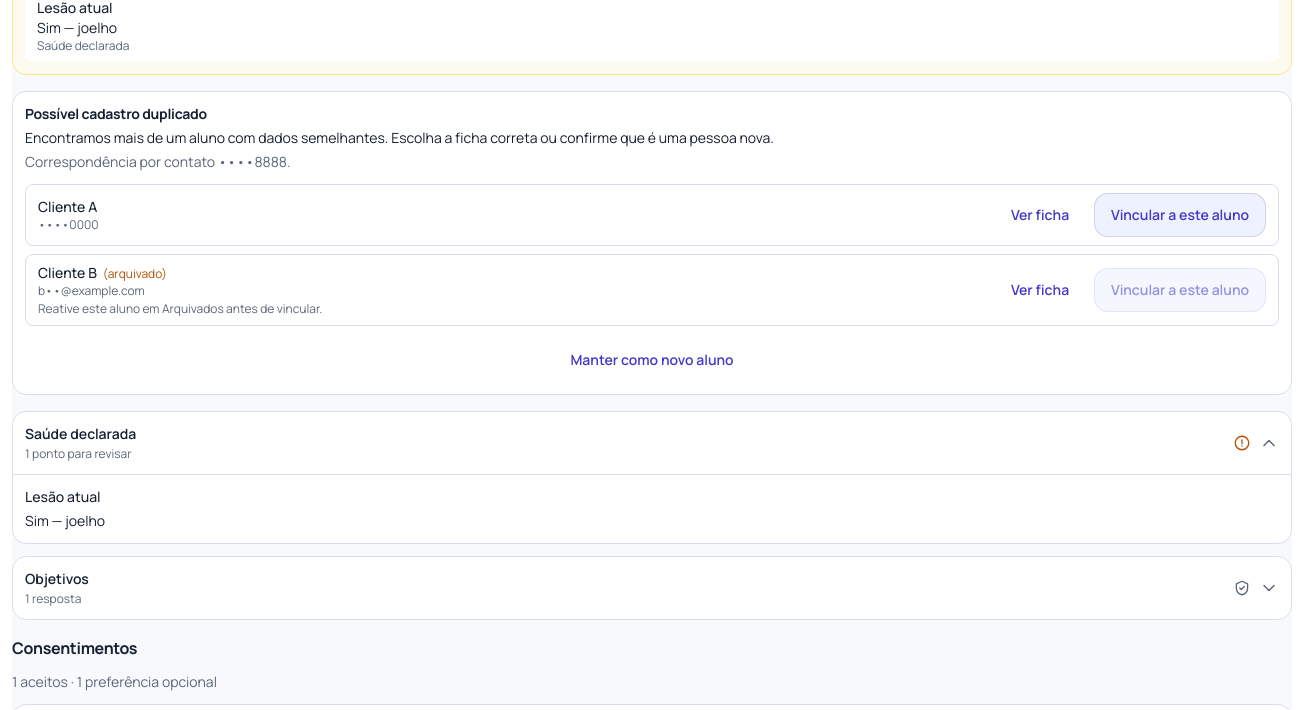
Test case: ambiguous duplicate resolution › keeps the submission as a new client via an explicit, separate action
(page scrolled)
Click the button "Manter como novo aluno" at point(652, 360), box [25, 338, 1279, 382]
(page scrolled)
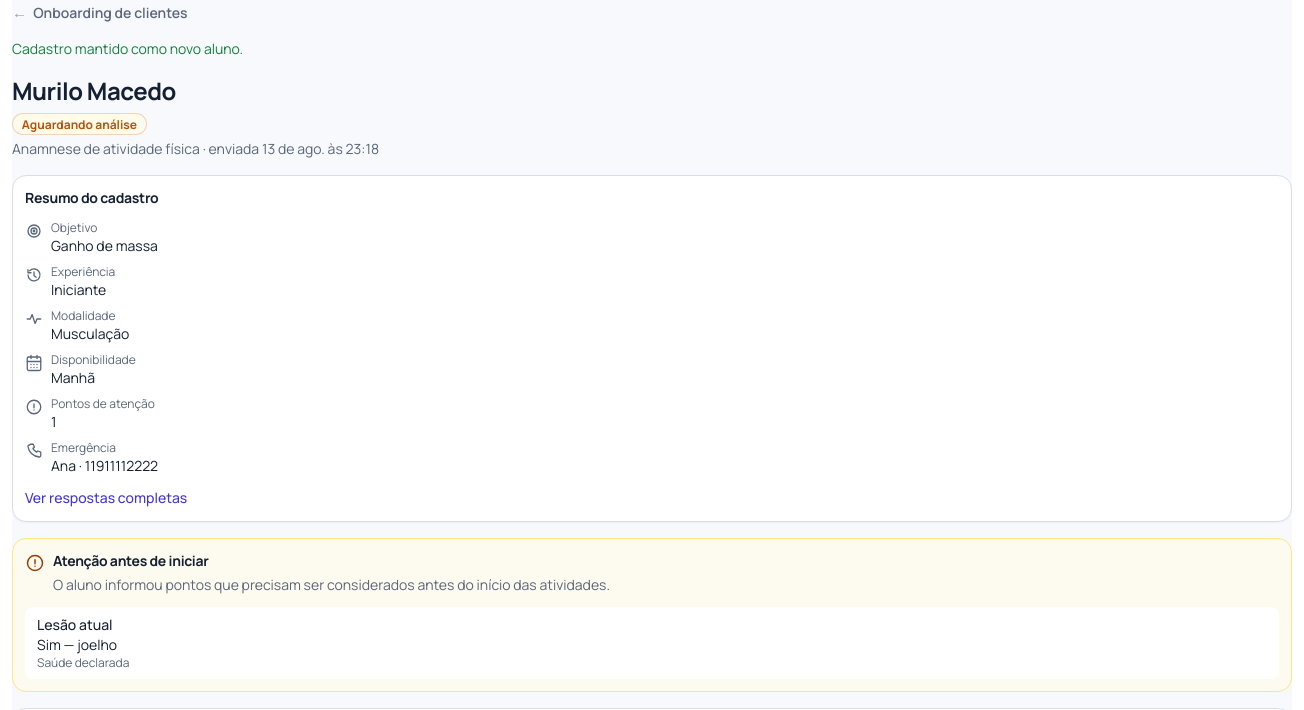
expect the text "Cadastro mantido como novo aluno." is shown: met, box [12, 39, 243, 58]
